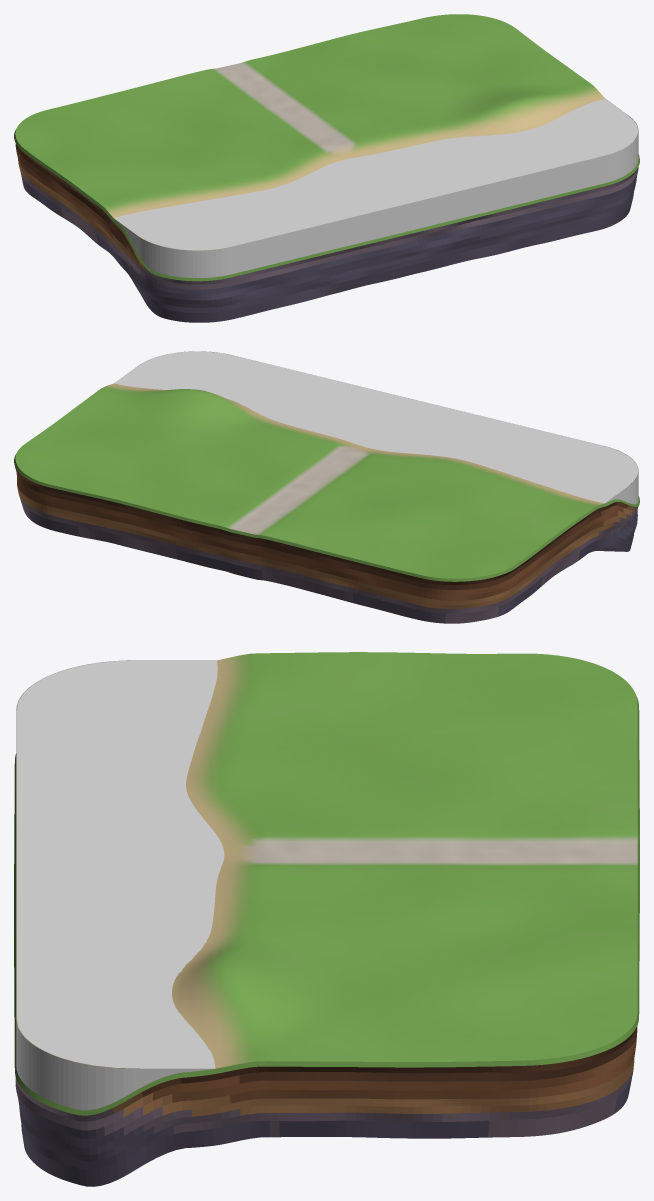
File: terrain_level12.fbx
3 renders of one model, top to bottom at view 1: azimuth 30°, elevation 25°; view 2: azimuth 150°, elevation 25°; view 3: azimuth 270°, elevation 25°, orthographic. The views are drawn at different scales.
Visible parts, largest first — view 1: Ground, Water_sea; view 2: Ground, Water_sea; view 3: Ground, Water_sea.
Part boxes in pixels (left/top/right/bottom): Ground: left=14, top=14, right=639, bottom=322; Water_sea: left=114, top=99, right=638, bottom=277; Ground: left=14, top=383, right=639, bottom=623; Water_sea: left=114, top=351, right=638, bottom=504; Ground: left=14, top=652, right=639, bottom=1186; Water_sea: left=16, top=660, right=224, bottom=1110.
Size of the model in its own units: 14.07 by 2.47 by 9.07.
